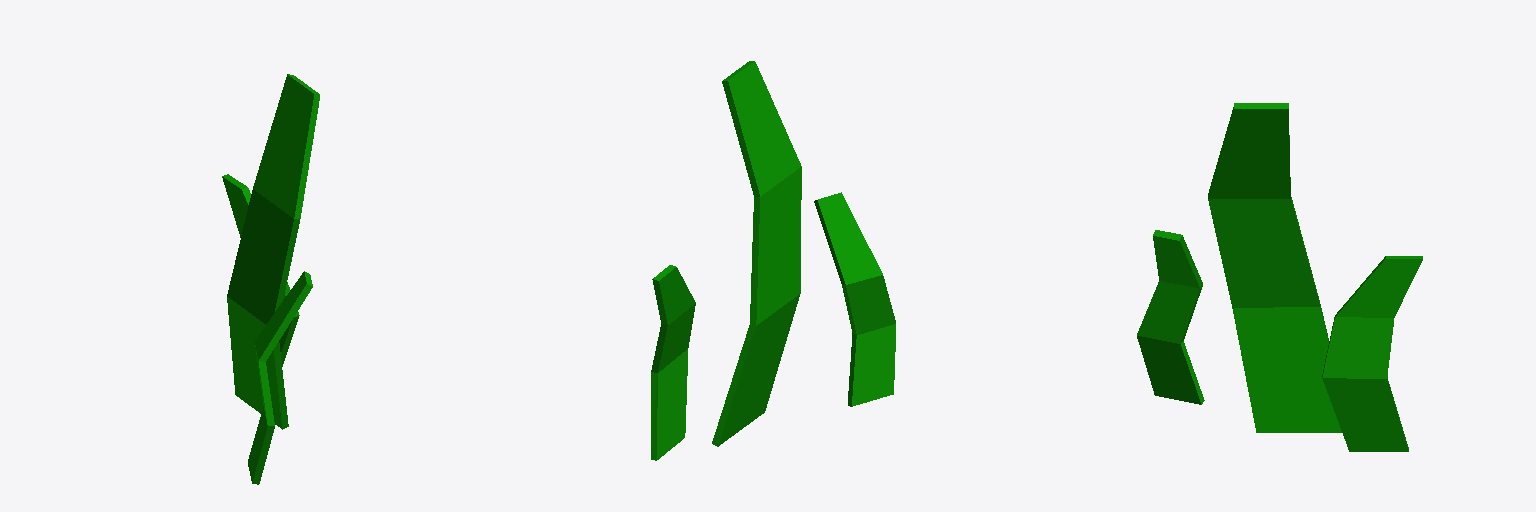
File: grass1.obj
3 views of the same model, side by side, from view 1: azimuth 30°, elevation 25°; view 2: azimuth 150°, elevation 25°; view 3: azimuth 270°, elevation 25° (orthographic).
Visible parts, largest first — view 1: Grass_1_Plane.000; view 2: Grass_1_Plane.000; view 3: Grass_1_Plane.000.
Part boxes in pixels (x1,y1,x2,y2): Grass_1_Plane.000: (222,74,319,484); Grass_1_Plane.000: (651,61,895,460); Grass_1_Plane.000: (1137,103,1422,451).
Bounding box in the file's own units: 0.2241 × 0.5599 × 0.4285.